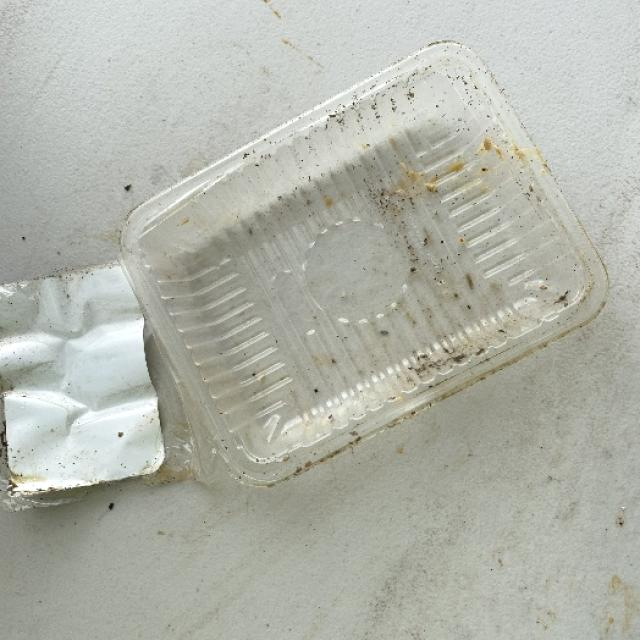inorganic: (115, 35, 603, 490)
